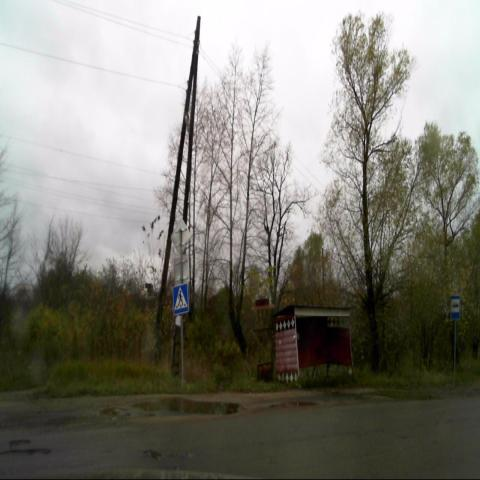5_16: (450, 295, 460, 320)
